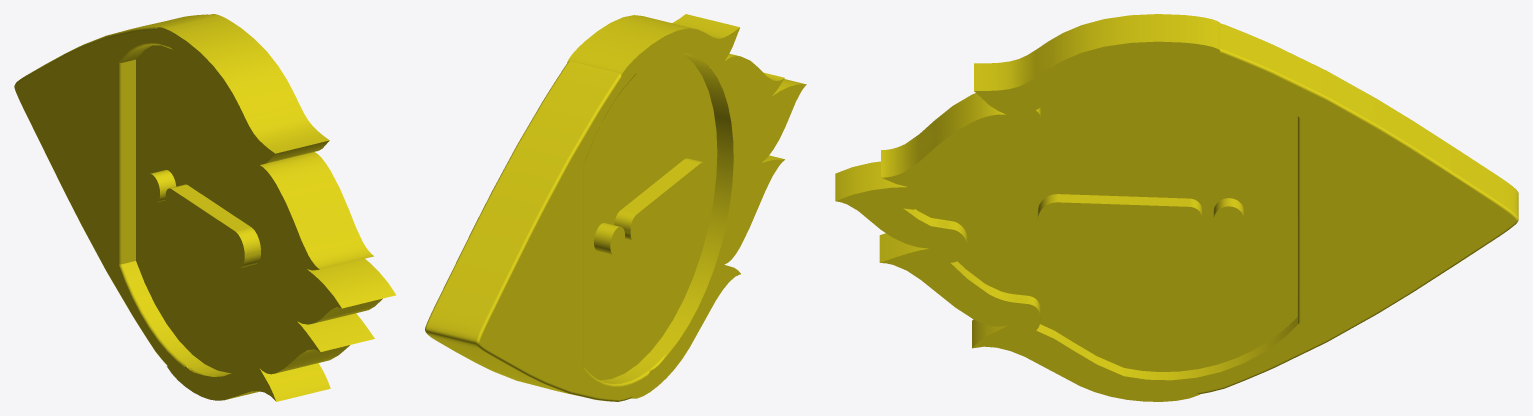
The model's file is ICONO 4.fbx.
3 views of the same model, side by side, from view 1: azimuth 30°, elevation 25°; view 2: azimuth 150°, elevation 25°; view 3: azimuth 270°, elevation 25° (orthographic). The views are drawn at different scales.
Visible parts, largest first — view 1: Body2; view 2: Body2; view 3: Body2.
Part boxes in pixels (x1,y1,x2,y2): Body2: (14,14,395,401); Body2: (425,14,806,401); Body2: (835,14,1518,401).
Size of the model in its own units: 112 by 684 by 1176.
